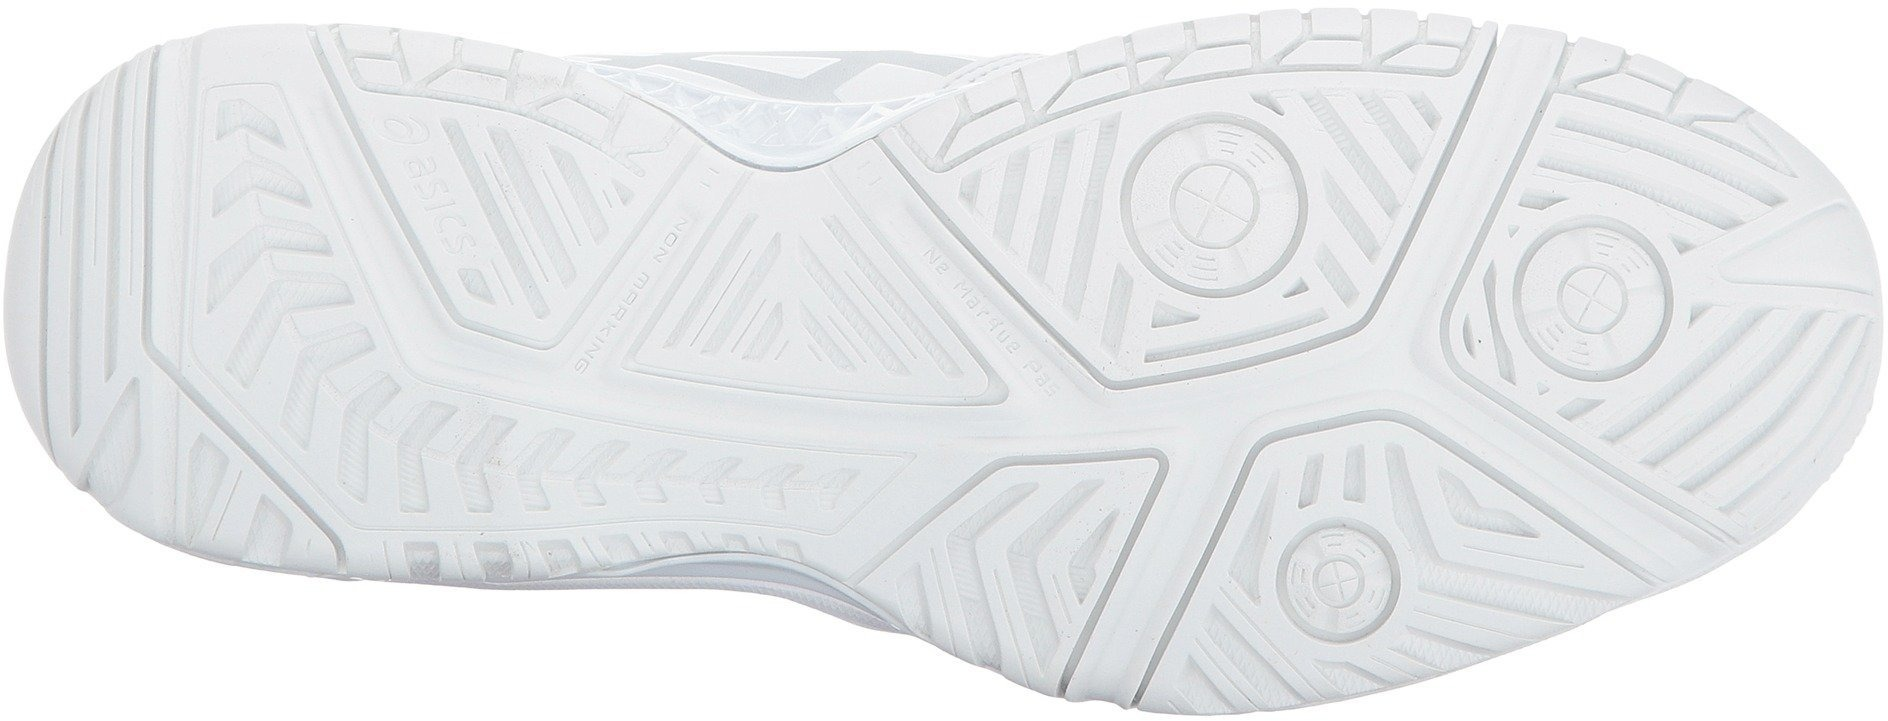chevron: (618, 175, 980, 500), (441, 394, 590, 537)
circle: (1256, 500, 1427, 658)
line: (1256, 500, 1427, 658)
other: (14, 175, 155, 325)
star: (1256, 500, 1427, 658)
